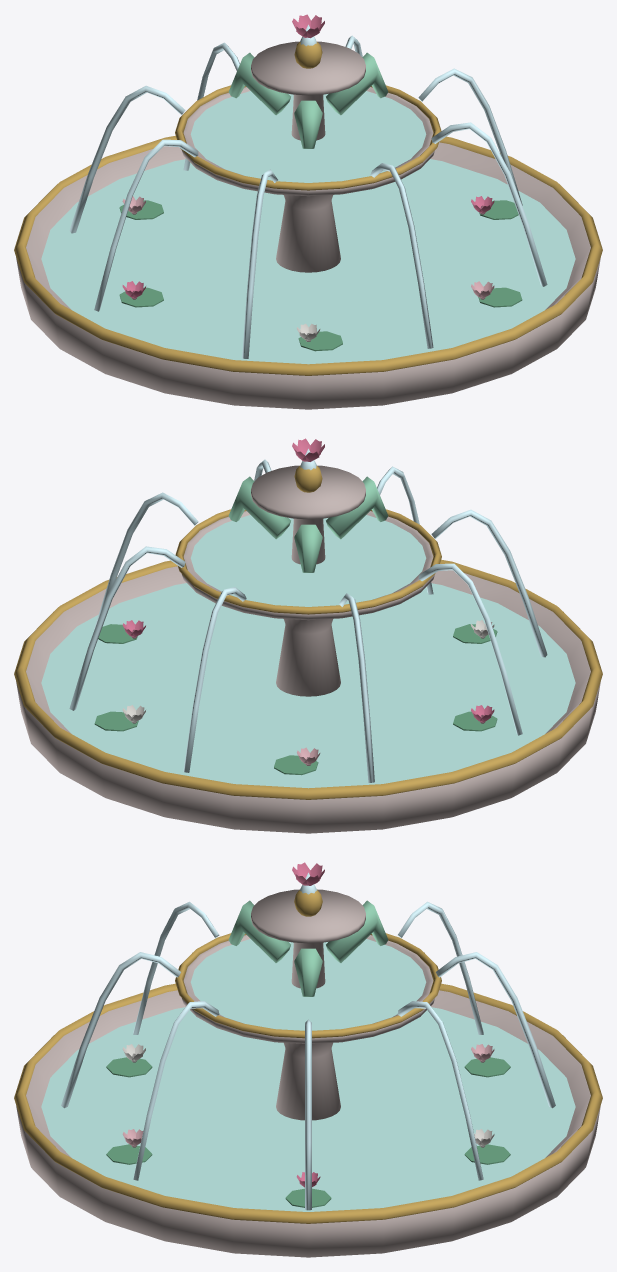
File: fountain_grand.glb
The picture shows the model from 3 angles, top to bottom: view 1: azimuth 30°, elevation 25°; view 2: azimuth 150°, elevation 25°; view 3: azimuth 270°, elevation 25°; orthographic projection.
Visible parts, largest first — view 1: fountain_grand; view 2: fountain_grand; view 3: fountain_grand.
Part boxes in pixels (left/top/right/bottom): fountain_grand: left=14, top=14, right=602, bottom=409; fountain_grand: left=14, top=438, right=602, bottom=833; fountain_grand: left=14, top=862, right=602, bottom=1257.
Size of what is drawn, in the model's own units: 8 by 4 by 8.
